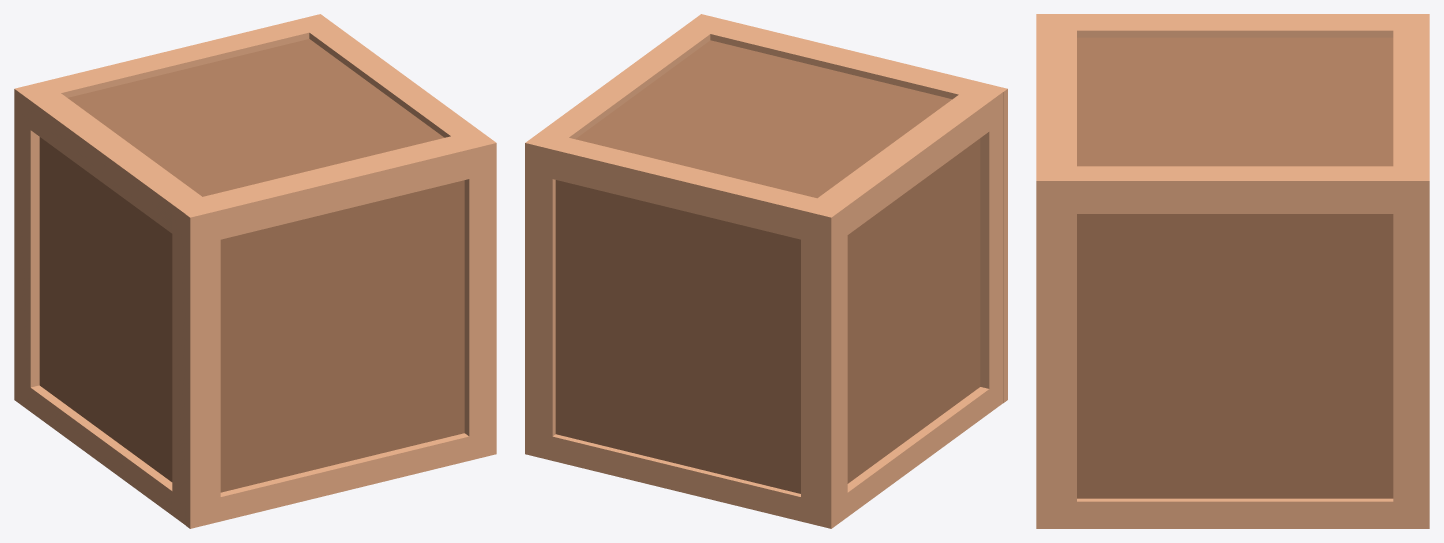
The model's file is Wooden crate.fbx.
3 renders of one model, left to right at view 1: azimuth 30°, elevation 25°; view 2: azimuth 150°, elevation 25°; view 3: azimuth 270°, elevation 25°, orthographic. The views are drawn at different scales.
Parts seen in each view (by area): view 1: Wooden Crate; view 2: Wooden Crate; view 3: Wooden Crate.
Boxes of the visible parts, x1,y1,x2,y2 form: Wooden Crate: [14, 14, 496, 528]; Wooden Crate: [525, 14, 1007, 528]; Wooden Crate: [1036, 14, 1429, 528].
Bounding box in the file's own units: 68.43 × 66.41 × 68.1.
